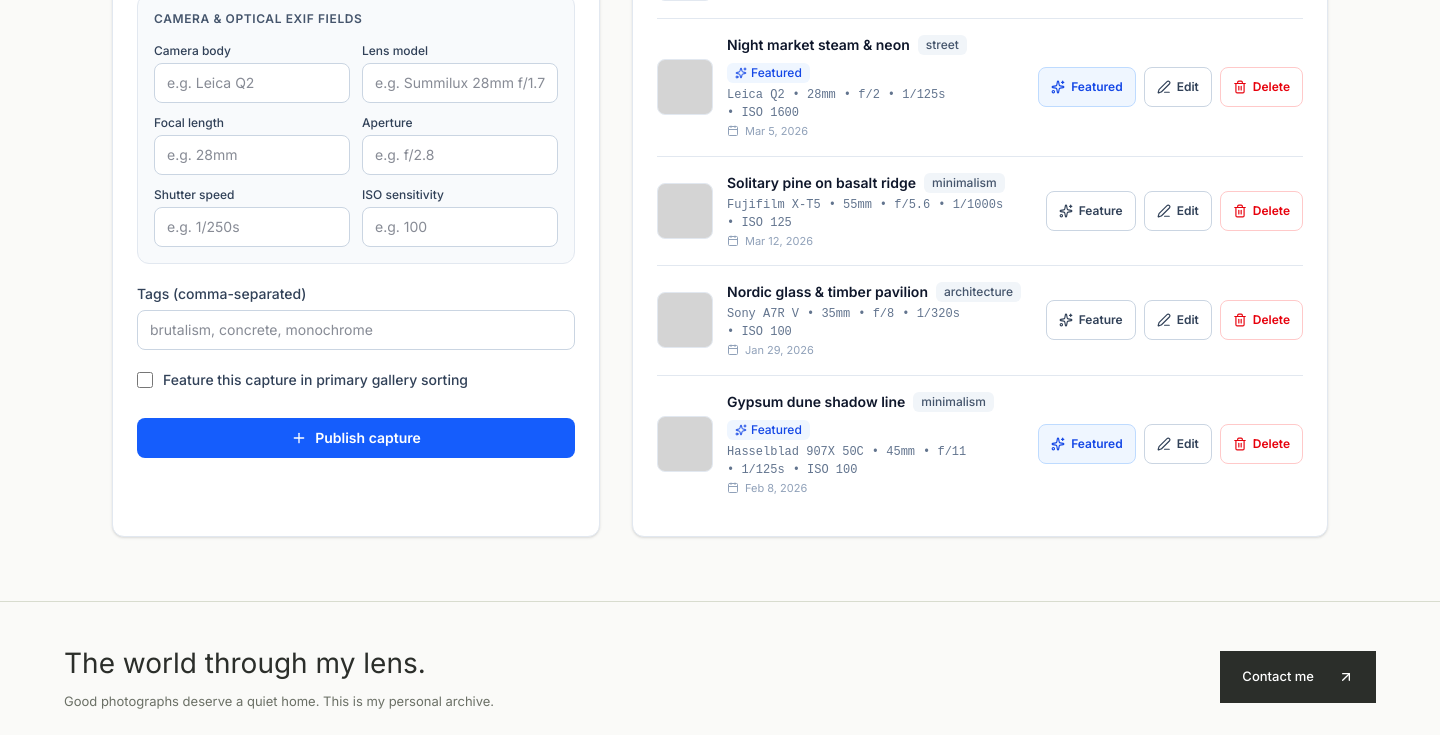
Test case: Empirical Challenger: Admin Curation Studio Adversarial Suite › 3. Form submission validation & curation lifecycle › renders real-time tag chips as user enters comma-separated tags
(page scrolled)
Type "architecture, brutalism, monochrome, light-study" into the field labelled "Tags (comma-separated)". click: (356, 330)
box: [137,310,575,350]
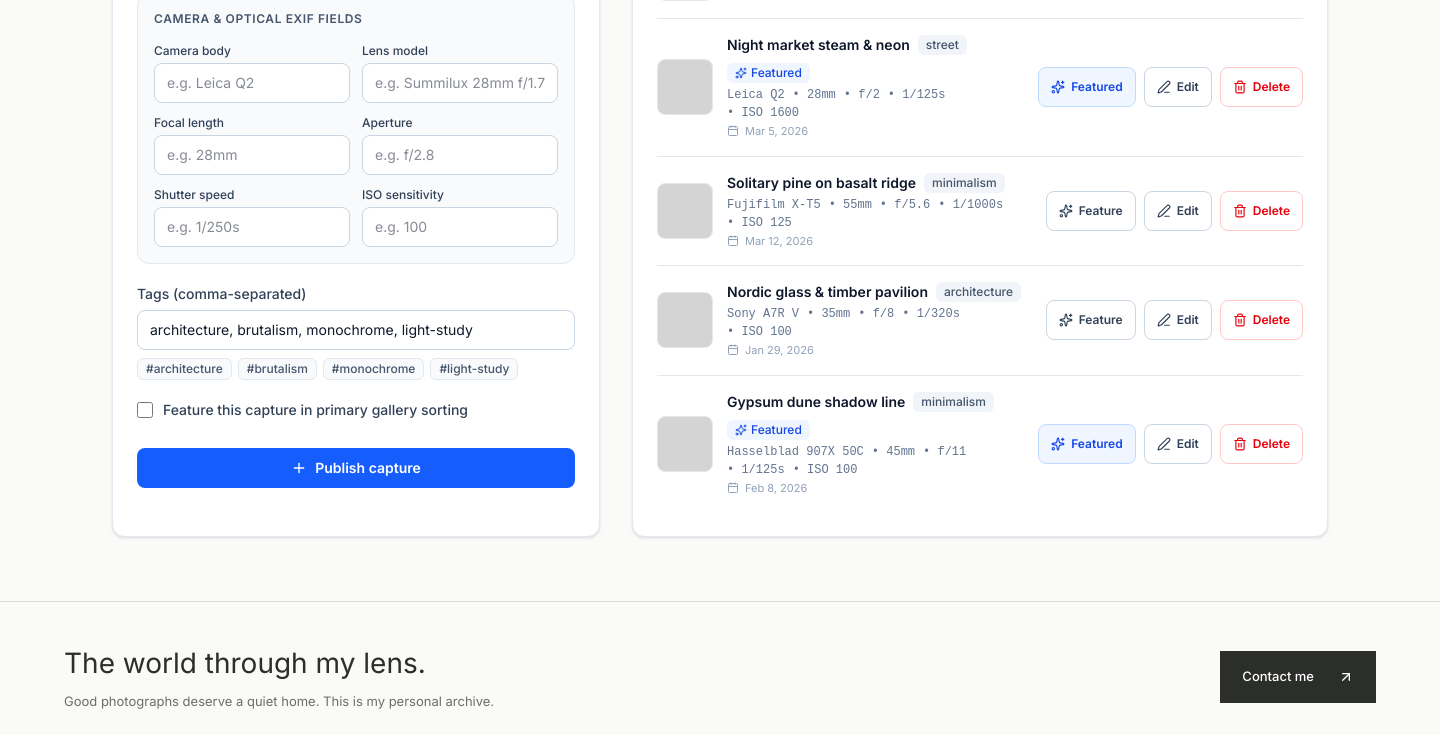
Expected: the text "#architecture" is shown, [137,358,232,380]
Expected: the text "#brutalism" is shown, [238,358,317,380]
Expected: the text "#monochrome" is shown, [323,358,424,380]
